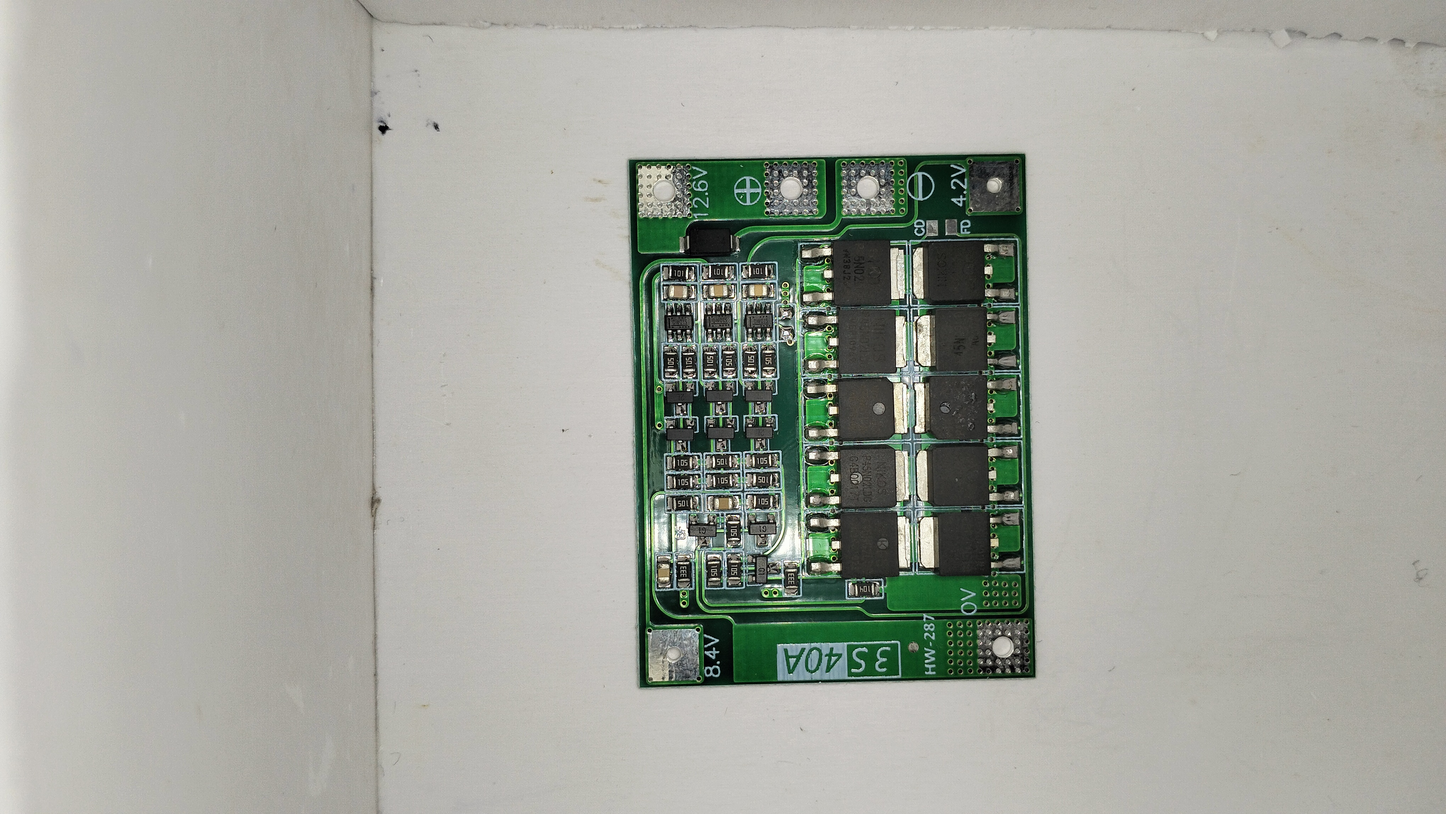C: (697, 281, 737, 299), (659, 284, 698, 302), (704, 494, 743, 511), (738, 282, 777, 299), (654, 553, 673, 587)
R 105: (664, 454, 702, 472), (665, 495, 703, 513), (663, 474, 701, 492), (744, 492, 782, 510), (747, 471, 785, 489), (744, 451, 782, 469), (704, 452, 742, 470), (704, 474, 742, 491), (760, 347, 778, 378), (725, 516, 743, 546), (661, 344, 679, 374), (680, 345, 698, 375), (702, 346, 720, 376), (719, 346, 737, 376), (743, 347, 761, 377), (725, 556, 743, 586), (705, 556, 723, 586)
R EEE: (784, 561, 800, 596), (675, 555, 692, 586)
R101: (661, 265, 699, 282), (740, 262, 778, 279), (702, 263, 740, 279)
R104: (844, 580, 886, 598)
diode: (677, 231, 747, 261)
ic 1: (807, 375, 918, 443), (915, 371, 1026, 439), (911, 235, 1021, 303), (801, 510, 912, 577), (799, 306, 910, 373), (915, 442, 1026, 509), (804, 444, 915, 511), (799, 239, 909, 306), (914, 305, 1024, 372), (918, 508, 1028, 575)
ic 2: (663, 303, 697, 344), (744, 303, 777, 343), (701, 302, 734, 342)
transitor: (659, 417, 698, 456), (660, 380, 699, 419), (739, 378, 778, 417), (744, 509, 782, 548), (701, 416, 740, 454), (702, 378, 741, 416), (742, 416, 781, 454), (683, 511, 721, 550), (744, 547, 782, 586)
